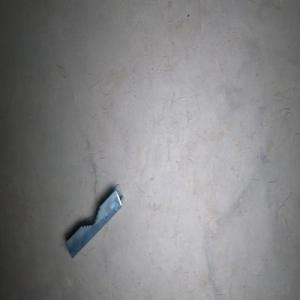ClampPart: (64, 182, 124, 259)
